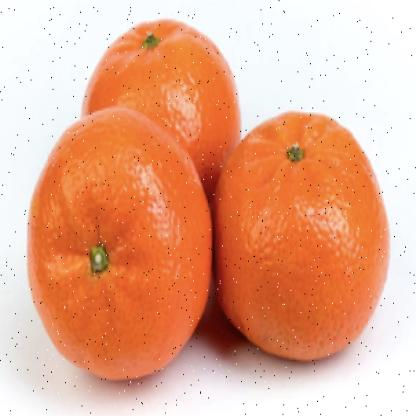fresh: (27, 21, 388, 383)
